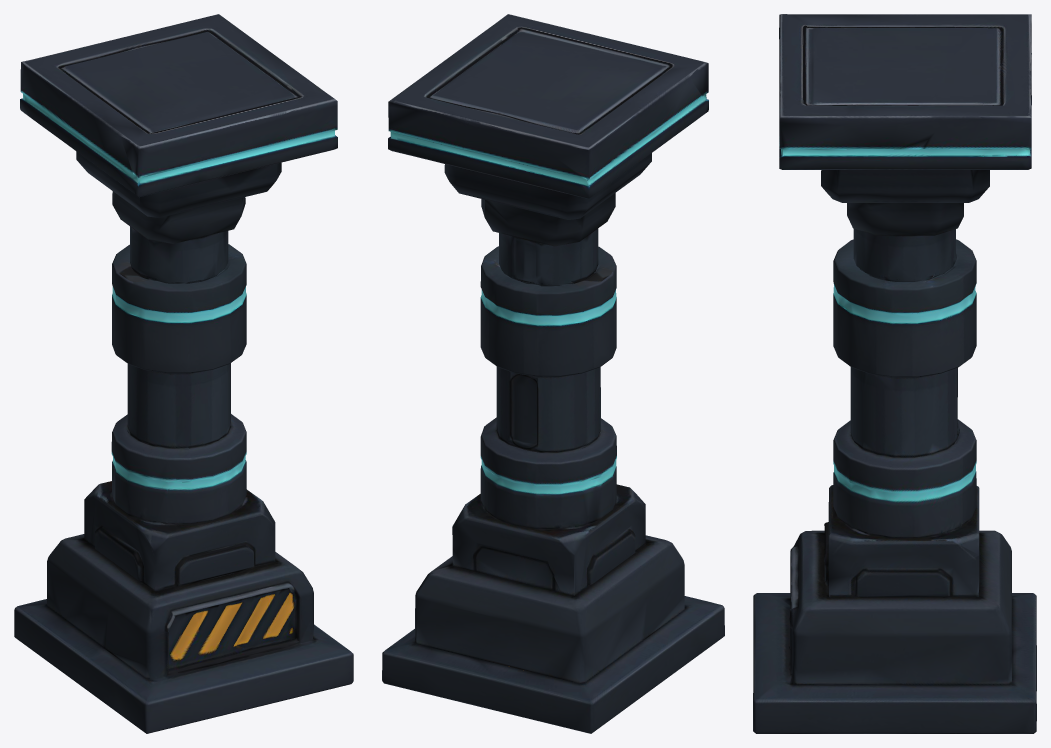
The model's file is Piston.fbx.
3 renders of one model, left to right at view 1: azimuth 30°, elevation 25°; view 2: azimuth 150°, elevation 25°; view 3: azimuth 270°, elevation 25°, orthographic. The views are drawn at different scales.
Visible parts, largest first — view 1: tripo_node_a0d7ae10; view 2: tripo_node_a0d7ae10; view 3: tripo_node_a0d7ae10.
Boxes of the visible parts, <box> form: tripo_node_a0d7ae10: <box>14,14,353,733</box>; tripo_node_a0d7ae10: <box>382,14,724,733</box>; tripo_node_a0d7ae10: <box>753,14,1036,733</box>.
Bounding box in the file's own units: 0.3792 × 0.9998 × 0.4176.
1 material, 1 textured.
